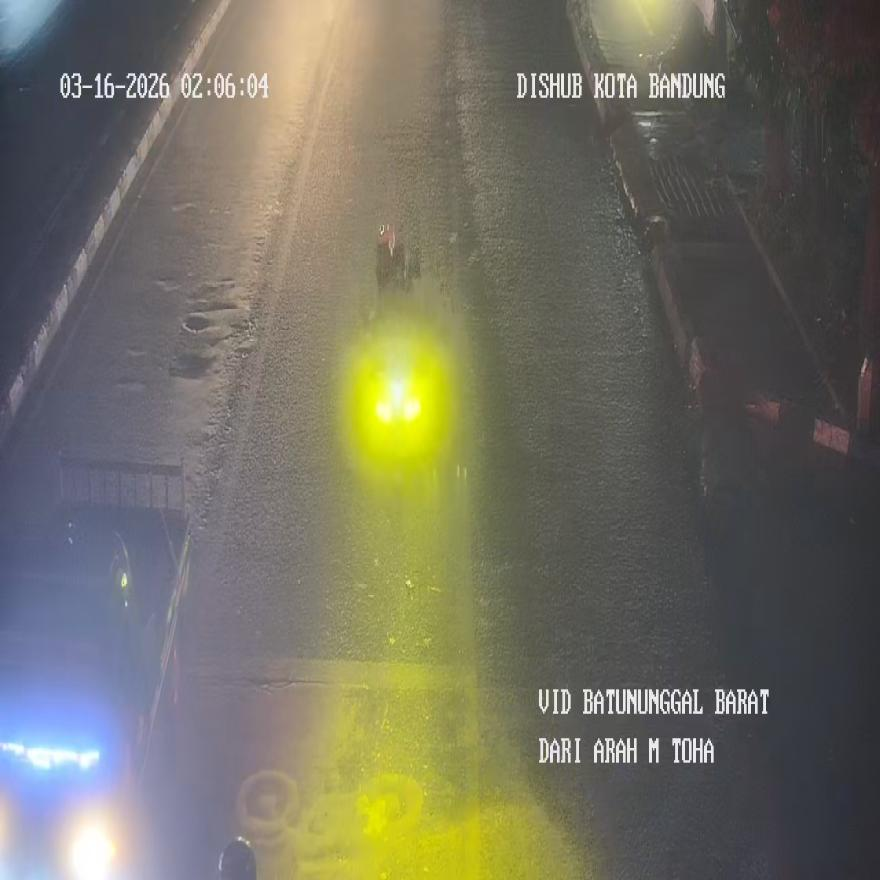Mobil: (0, 453, 192, 879)
Motor: (361, 222, 445, 460)
